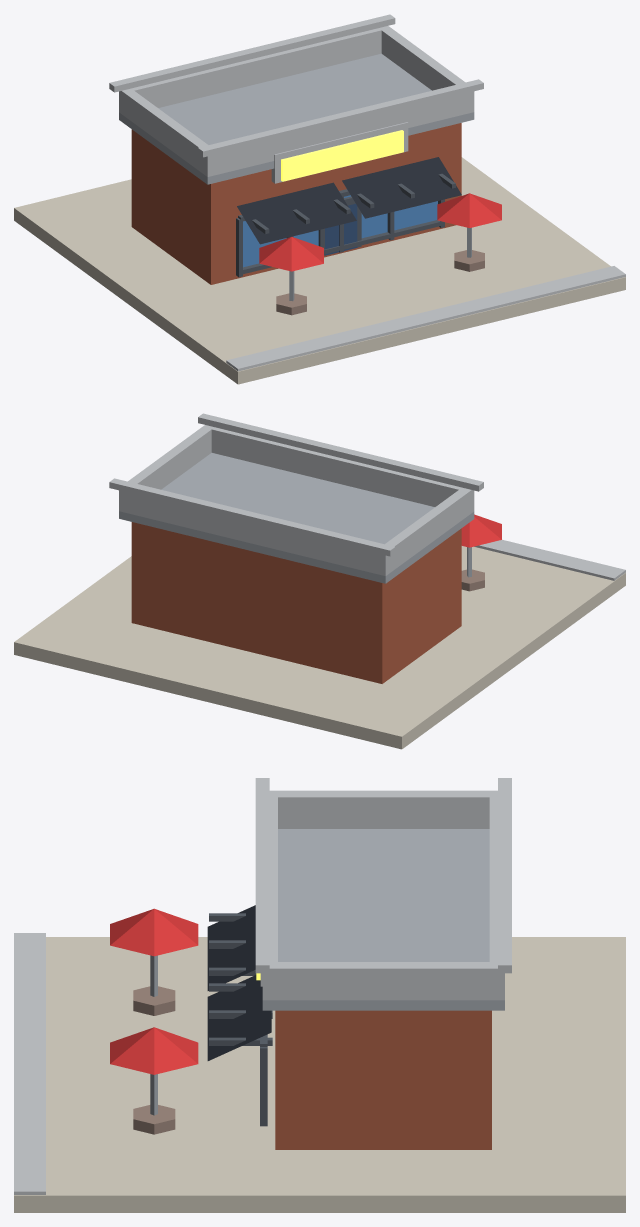
The picture shows the model from 3 angles, top to bottom: view 1: azimuth 30°, elevation 25°; view 2: azimuth 150°, elevation 25°; view 3: azimuth 270°, elevation 25°; orthographic projection. The views are drawn at different scales.
Parts seen in each view (by area): view 1: b12_v2_lod1; view 2: b12_v2_lod1; view 3: b12_v2_lod1.
Part boxes in pixels (x1,y1,x2,y2): b12_v2_lod1: [14, 14, 625, 384]; b12_v2_lod1: [14, 413, 625, 749]; b12_v2_lod1: [14, 778, 625, 1212].
Size of the model in its own units: 0.96 by 0.367 by 0.96.
